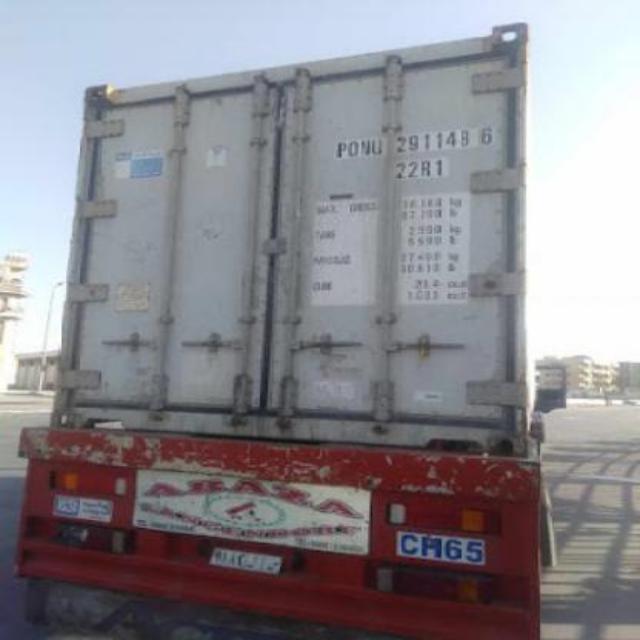1: (418, 130, 434, 154), (428, 127, 444, 151)
2: (394, 131, 406, 155)
4: (446, 128, 458, 148)
6: (480, 122, 498, 148)
8: (458, 126, 472, 150)
9: (404, 132, 418, 156)
N: (358, 136, 370, 162)
O: (344, 138, 356, 158)
P: (336, 138, 346, 156)
U: (370, 136, 386, 156)
